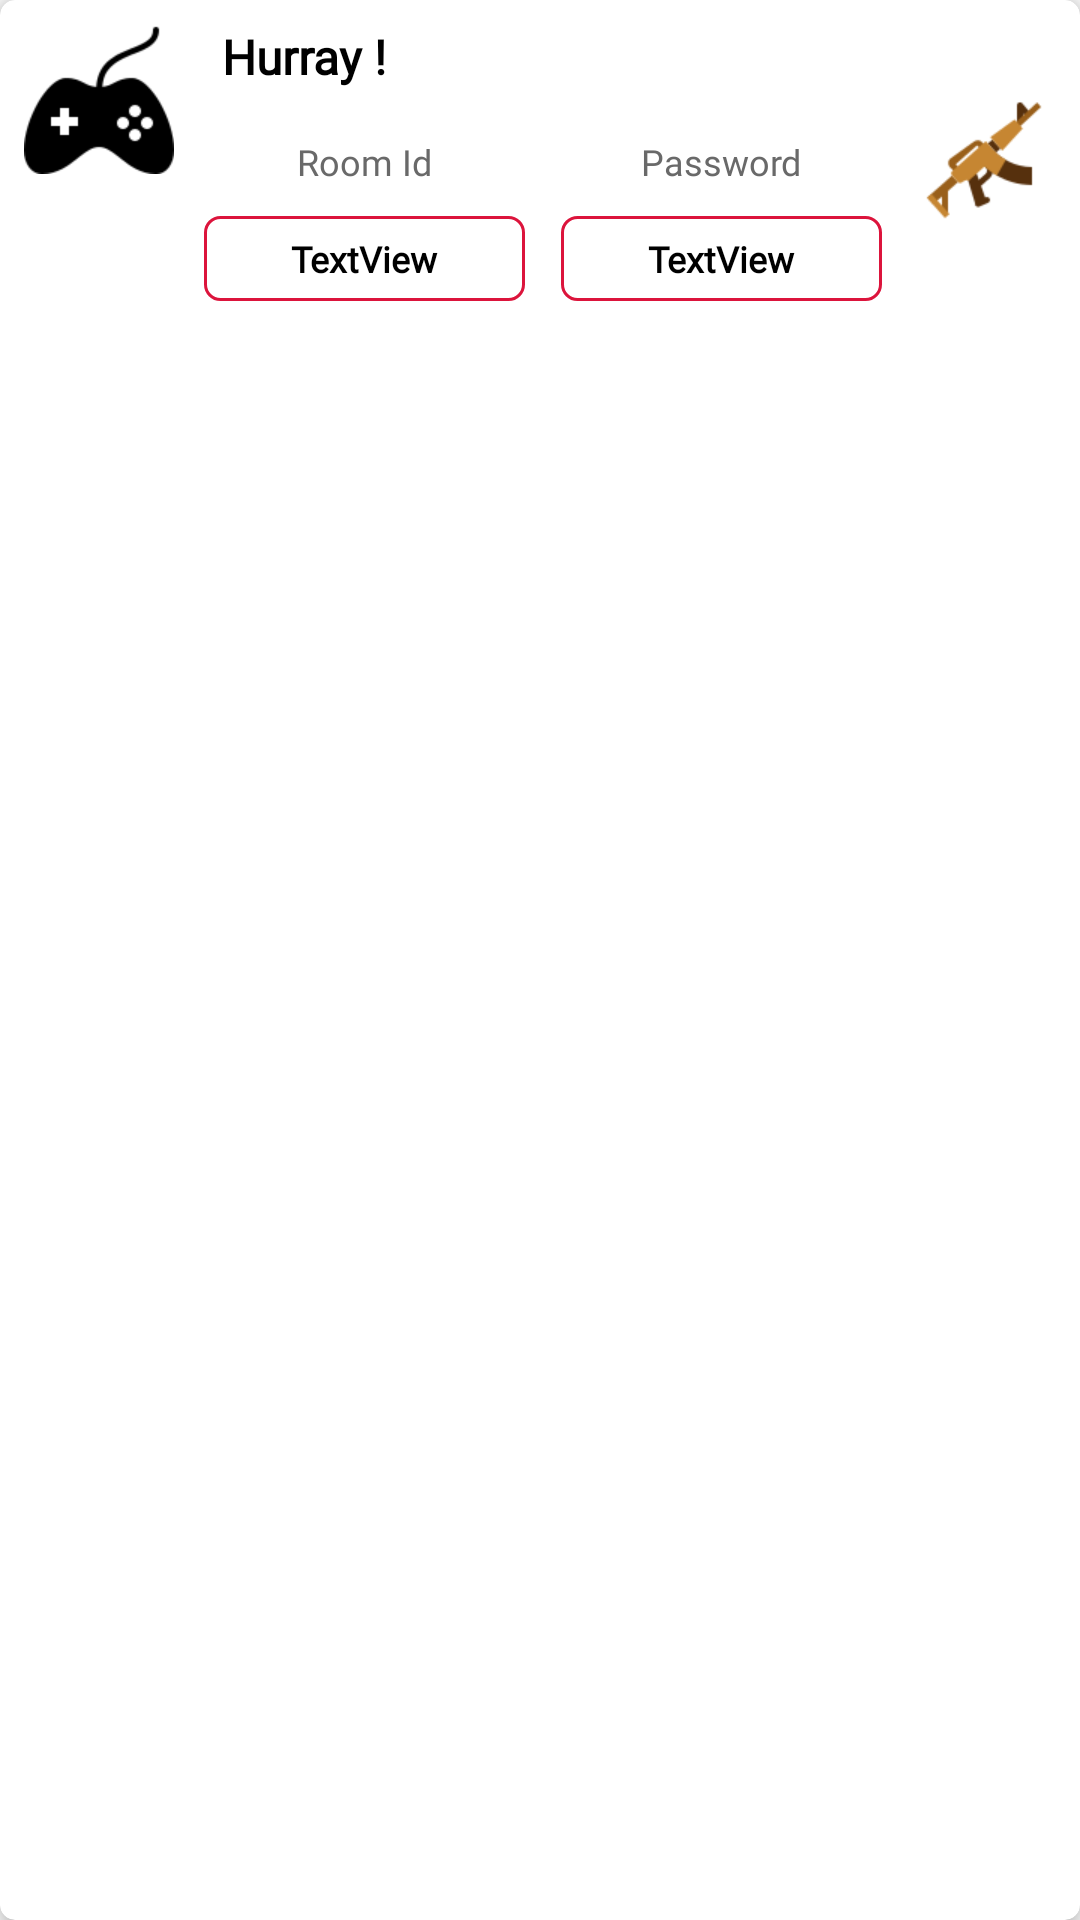

Icons on this 1080 × 1920 Android screen, each with the point to tap as (x=x, y=y):
game: (x=99, y=100)
rifle: (x=983, y=160)
